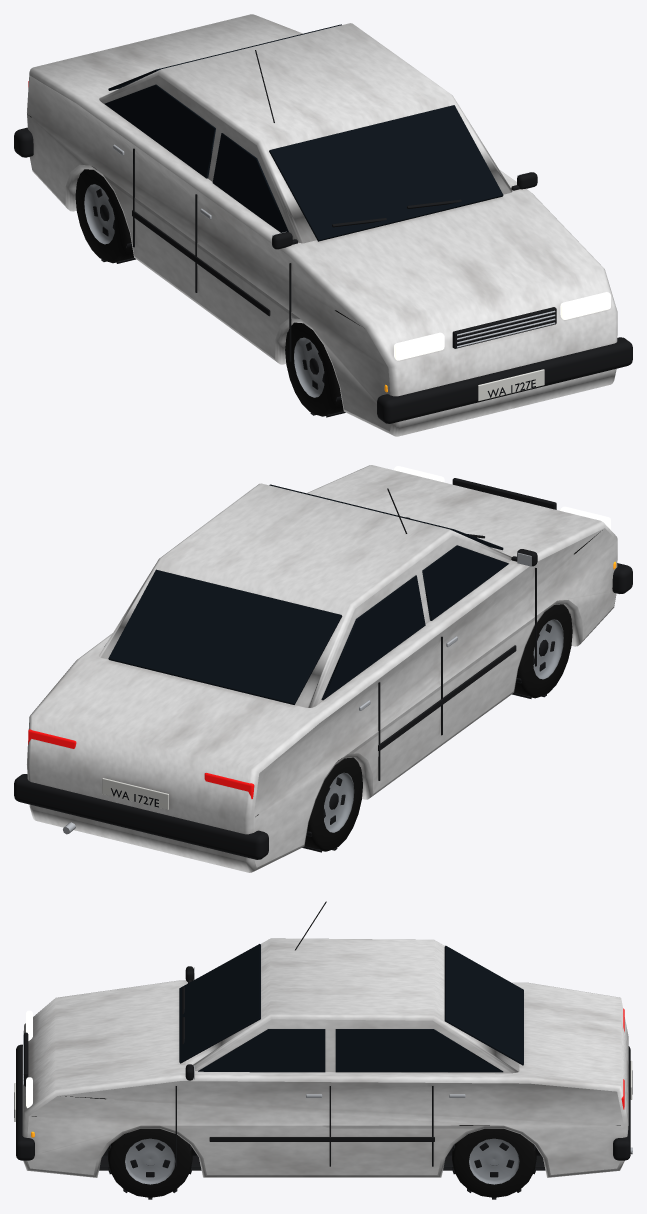
File: auto_sedan.glb
The picture shows the model from 3 angles, top to bottom: view 1: azimuth 30°, elevation 25°; view 2: azimuth 150°, elevation 25°; view 3: azimuth 270°, elevation 25°; orthographic projection. The views are drawn at different scales.
Parts seen in each view (by area): view 1: TintKaroseria, Detale, Kolo3, Kolo1, Reflektor, Reflektor.001; view 2: TintKaroseria, Detale, Kolo3, Kolo1; view 3: TintKaroseria, Detale, Kolo4, Kolo2.
Part boxes in pixels (x1,y1,x2,y2): TintKaroseria: (27, 14, 617, 436); Detale: (14, 24, 632, 423); Kolo3: (75, 169, 135, 263); Kolo1: (285, 322, 345, 417); Reflektor: (394, 332, 444, 360); Reflektor.001: (560, 292, 610, 319); TintKaroseria: (27, 465, 617, 872); Detale: (14, 478, 632, 859); Kolo3: (302, 757, 362, 852); Kolo1: (512, 604, 572, 698); TintKaroseria: (22, 938, 628, 1177); Detale: (14, 901, 632, 1170); Kolo4: (452, 1128, 536, 1199); Kolo2: (108, 1128, 192, 1199).
Size of the model in its own units: 1.83 by 1.82 by 4.54.
12 materials, 1 textured.
